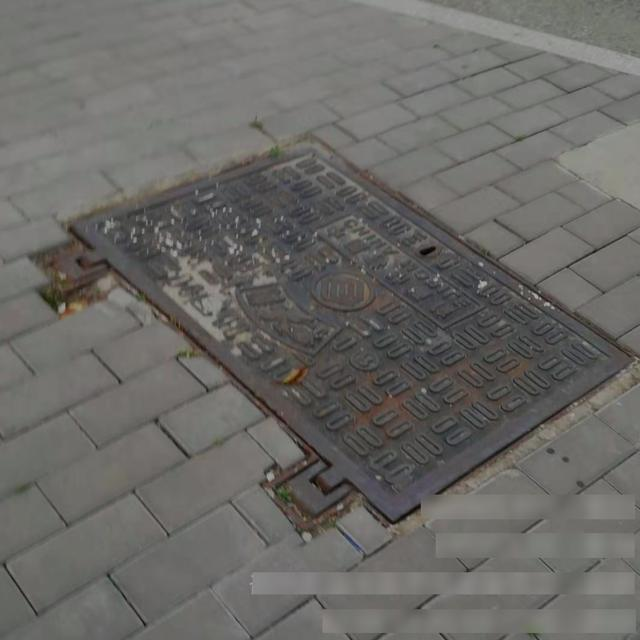good: (65, 111, 639, 516)
